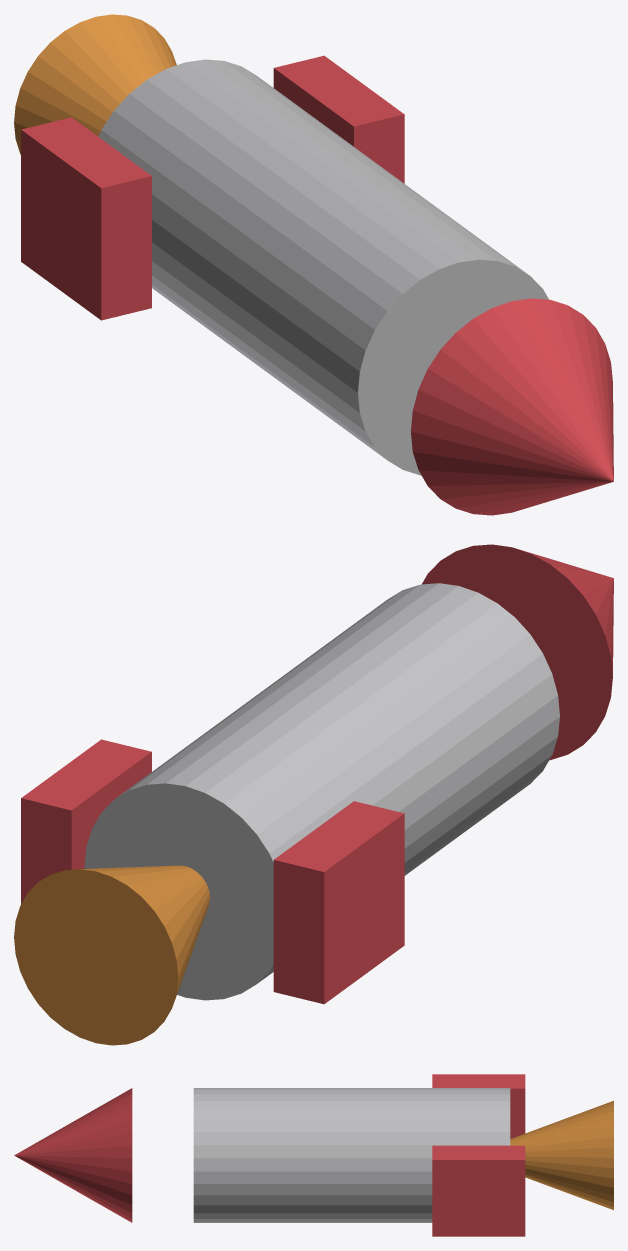
The model's file is powerup_rocket_boost.glb.
The picture shows the model from 3 angles, top to bottom: view 1: azimuth 30°, elevation 25°; view 2: azimuth 150°, elevation 25°; view 3: azimuth 270°, elevation 25°; orthographic projection. The views are drawn at different scales.
Parts seen in each view (by area): view 1: body, nose, fin1, flame, fin2; view 2: body, flame, fin1, nose, fin2; view 3: body, fin2, nose, flame, fin1.
Boxes of the visible parts, left/top/right/bottom form: body: left=98, top=59, right=548, bottom=475; nose: left=410, top=298, right=613, bottom=515; fin1: left=21, top=117, right=151, bottom=320; flame: left=14, top=14, right=176, bottom=154; fin2: left=273, top=55, right=404, bottom=183; body: left=84, top=583, right=559, bottom=1000; flame: left=14, top=865, right=209, bottom=1045; fin1: left=273, top=801, right=404, bottom=1004; nose: left=422, top=544, right=613, bottom=760; fin2: left=21, top=739, right=151, bottom=903; body: left=193, top=1088, right=510, bottom=1222; fin2: left=432, top=1145, right=525, bottom=1236; nose: left=14, top=1088, right=132, bottom=1222; flame: left=510, top=1100, right=613, bottom=1210; fin1: left=432, top=1074, right=525, bottom=1138.
Size of the model in its own units: 0.48 by 0.32 by 1.42.
